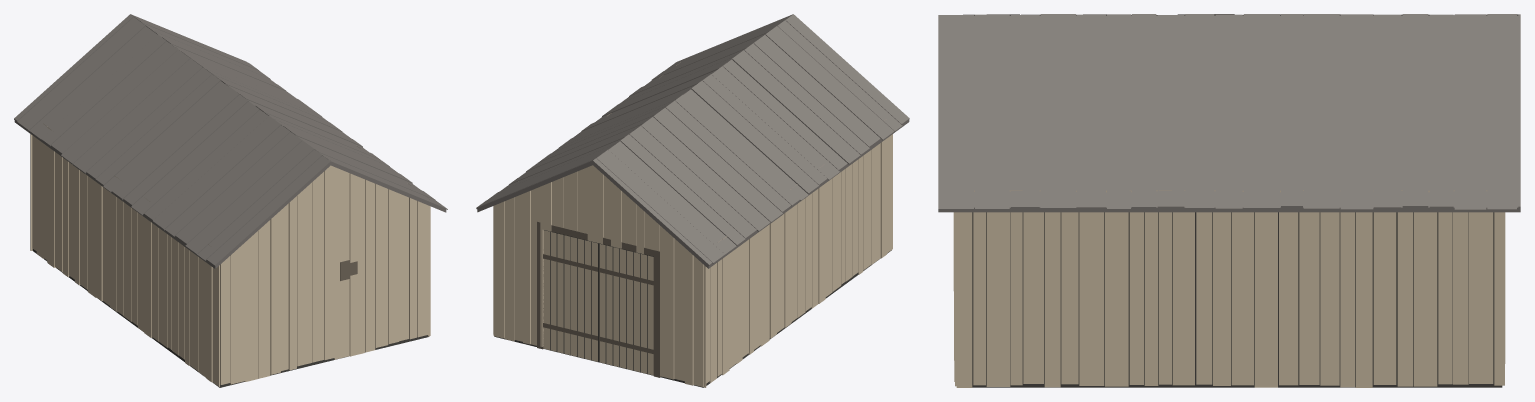
Rendered from recon_1835_north_w1_018__inferred_1835.glb.
3 renders of one model, left to right at view 1: azimuth 30°, elevation 25°; view 2: azimuth 150°, elevation 25°; view 3: azimuth 270°, elevation 25°, orthographic. The views are drawn at different scales.
Visible parts, largest first — view 1: recon_1835_north_w1_018__inferred_1835; view 2: recon_1835_north_w1_018__inferred_1835; view 3: recon_1835_north_w1_018__inferred_1835.
Part boxes in pixels (x1,y1,x2,y2): recon_1835_north_w1_018__inferred_1835: (14,14,447,387); recon_1835_north_w1_018__inferred_1835: (476,14,909,387); recon_1835_north_w1_018__inferred_1835: (938,14,1520,387).
Size of the model in its own units: 6.17 by 5.17 by 9.1.
